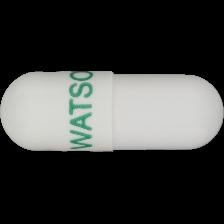69189-0169: (0, 0, 224, 224)
